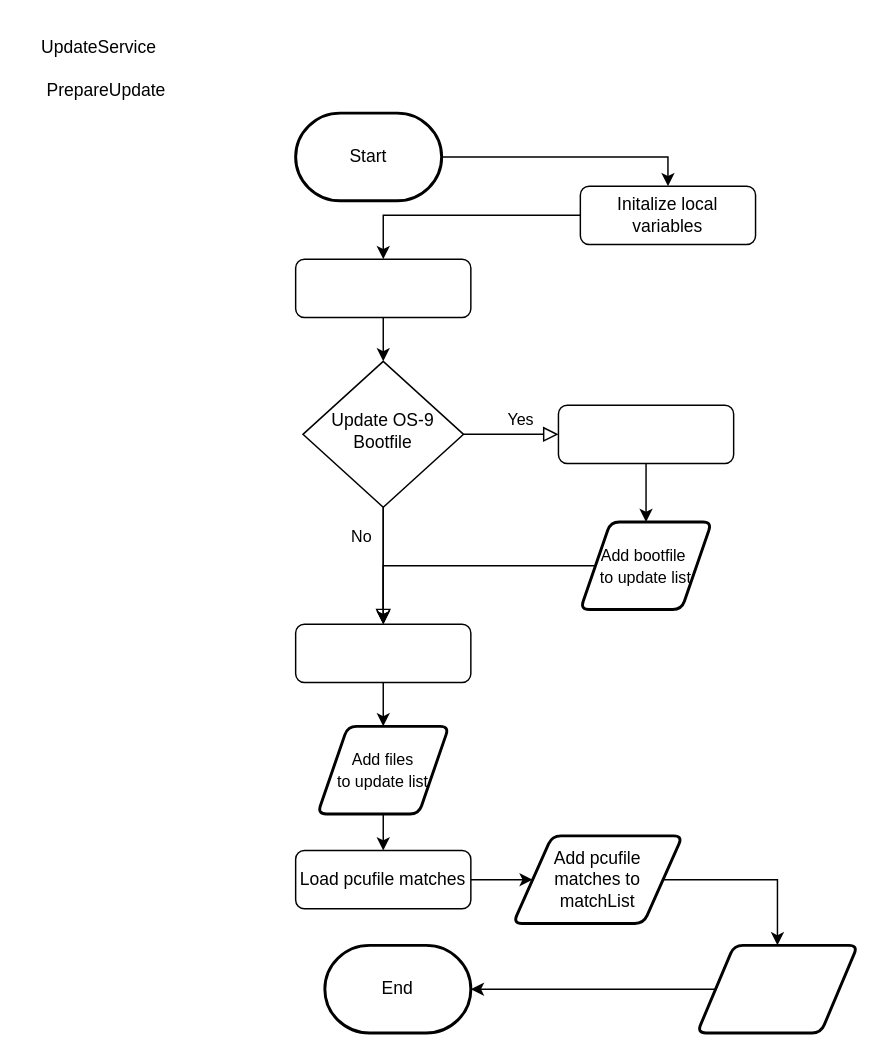
Image size: 883x1059. Some labels were removed from this diagram. Here are the shapes that lost their labels. From the top down, the centre of each, then its label:
At (x=382, y=288): "Unzip selected update folder".
At (x=645, y=434): "extract bootfile formthe image folder".
At (x=382, y=653): "extract all updatefiles from update folder".
At (x=776, y=988): "Return UpdateList & matchList".
